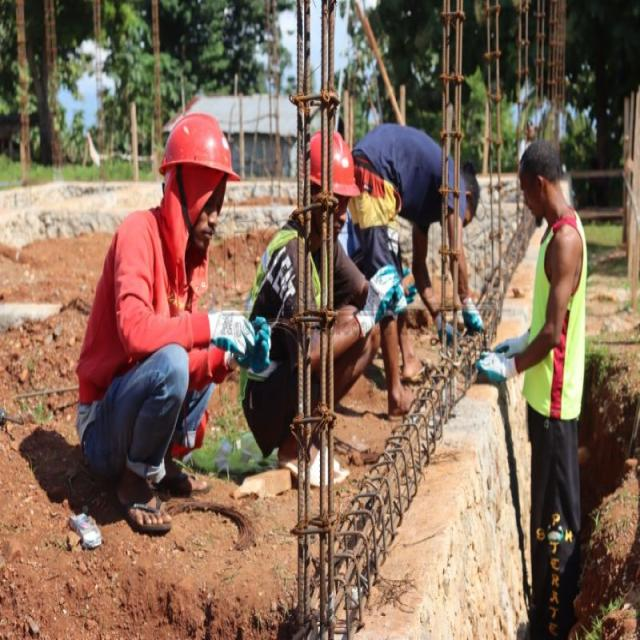gloves: (202, 289, 256, 365), (359, 264, 402, 346), (478, 342, 520, 406), (486, 309, 530, 363), (456, 280, 488, 336), (432, 299, 462, 358), (247, 308, 272, 372), (389, 278, 417, 324)
hardhat: (158, 114, 243, 250), (290, 124, 366, 215)
no_boots: (278, 406, 354, 496), (115, 458, 180, 535), (162, 442, 212, 506), (376, 381, 412, 434), (396, 359, 432, 399)
no_hardhat: (516, 132, 568, 227), (448, 160, 482, 230)
no_vest: (67, 186, 236, 410), (244, 203, 339, 441), (363, 116, 470, 264), (524, 212, 596, 428)
person: (74, 113, 272, 538), (478, 133, 613, 640), (238, 123, 411, 489), (353, 120, 490, 432)
